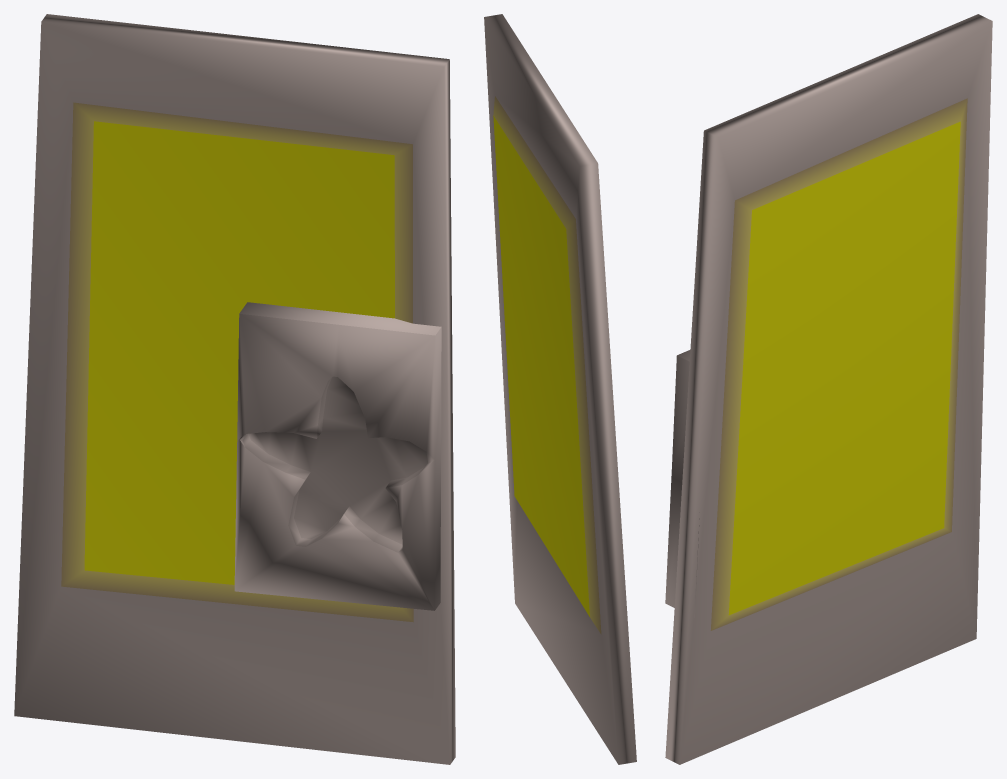
File: LighthouseUpperDoorLightOn.glb
3 views of the same model, side by side, from view 1: azimuth 30°, elevation 25°; view 2: azimuth 150°, elevation 25°; view 3: azimuth 270°, elevation 25° (orthographic). The views are drawn at different scales.
Parts seen in each view (by area): view 1: LighthouseUpperDoorLightOn; view 2: LighthouseUpperDoorLightOn; view 3: LighthouseUpperDoorLightOn.
Boxes of the visible parts, x1,y1,x2,y2 form: LighthouseUpperDoorLightOn: [14, 14, 455, 764]; LighthouseUpperDoorLightOn: [484, 14, 636, 764]; LighthouseUpperDoorLightOn: [665, 14, 992, 764].
Size of the model in its own units: 0.7425 by 1.58 by 0.7398.
